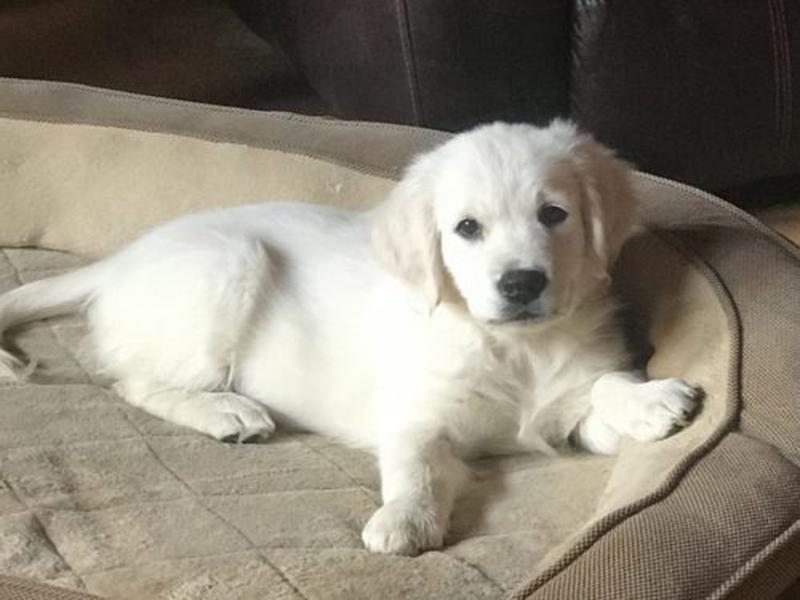dog_down: (1, 115, 707, 568)
